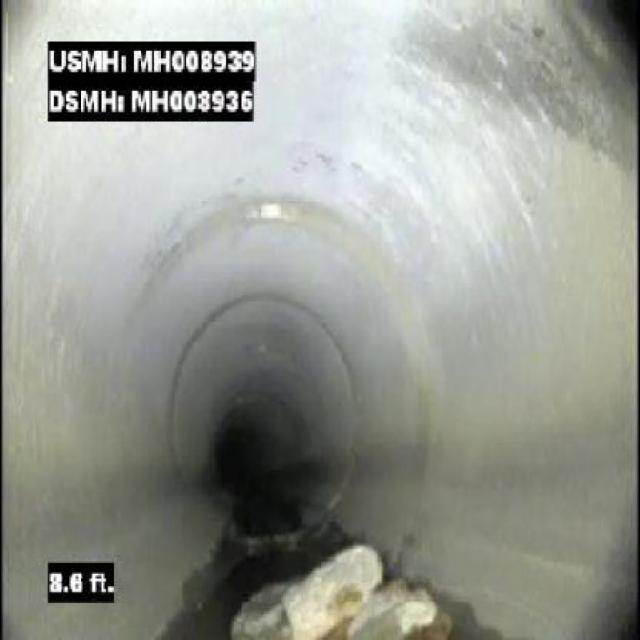Obstacle: (228, 537, 460, 638)
